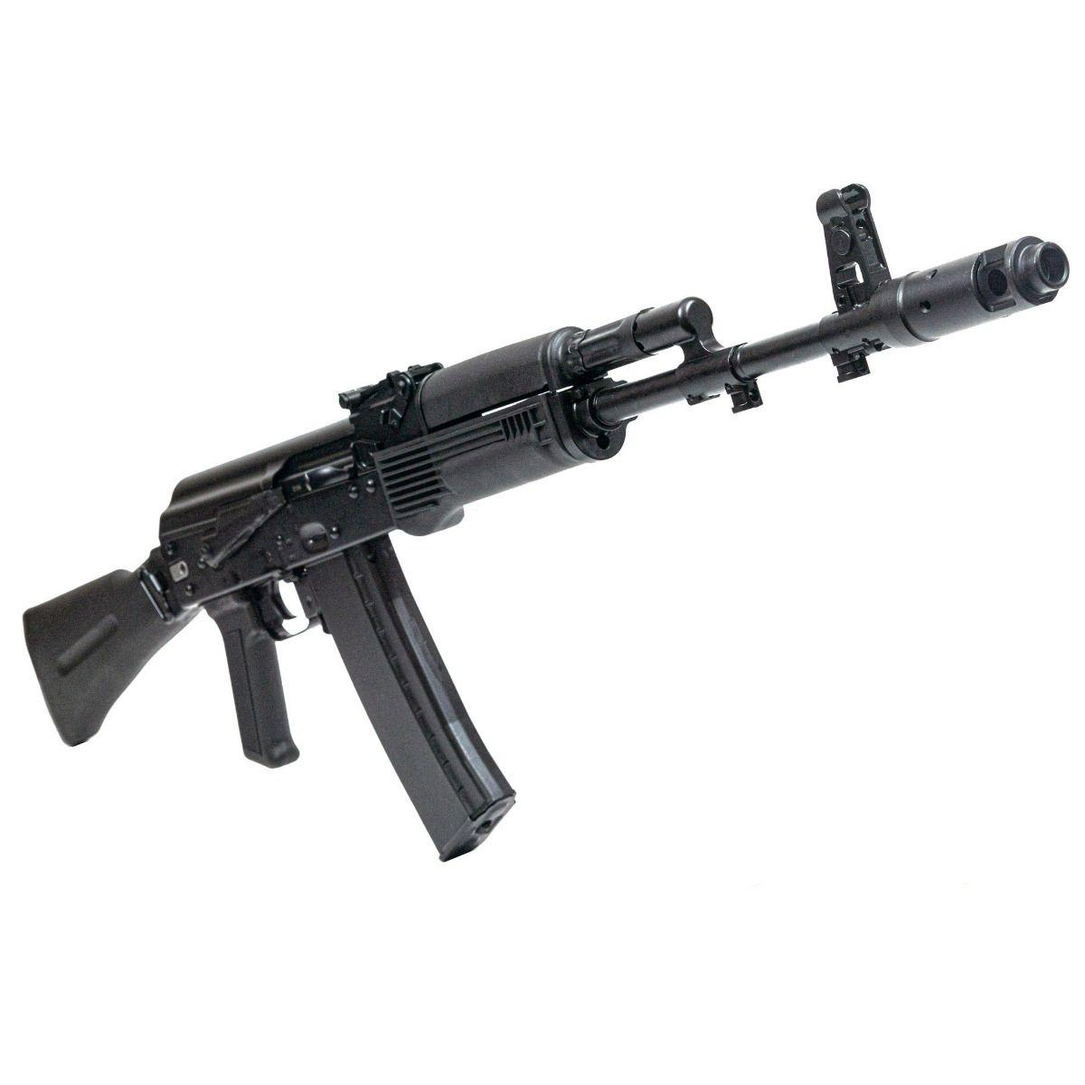larga: (17, 181, 1072, 866)
